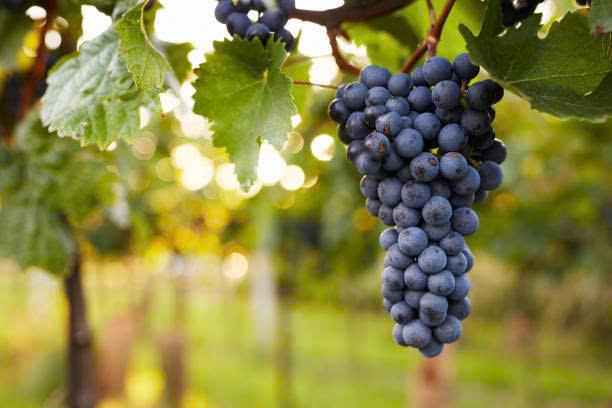grape: (341, 57, 502, 350), (216, 2, 302, 61)
